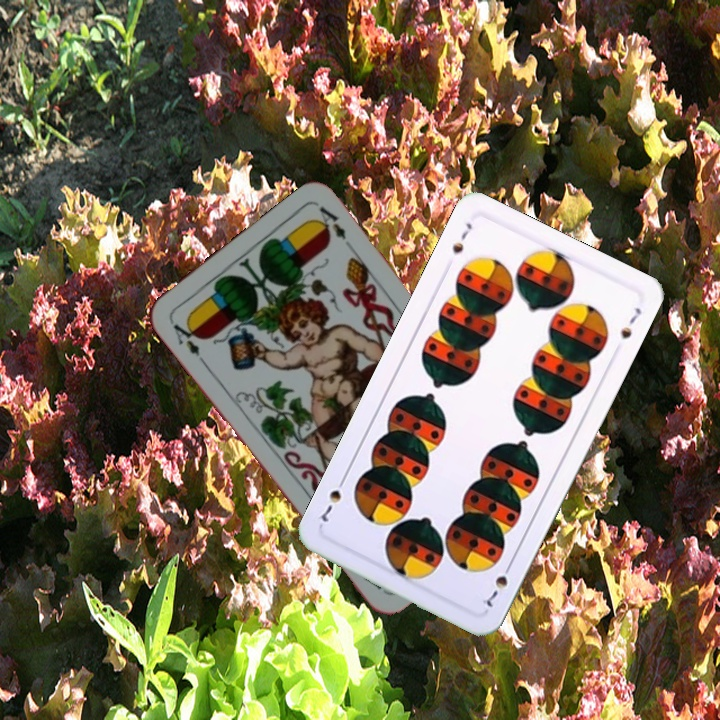EA: (165, 315, 203, 358)
S7: (478, 558, 515, 610), (448, 218, 475, 257)
